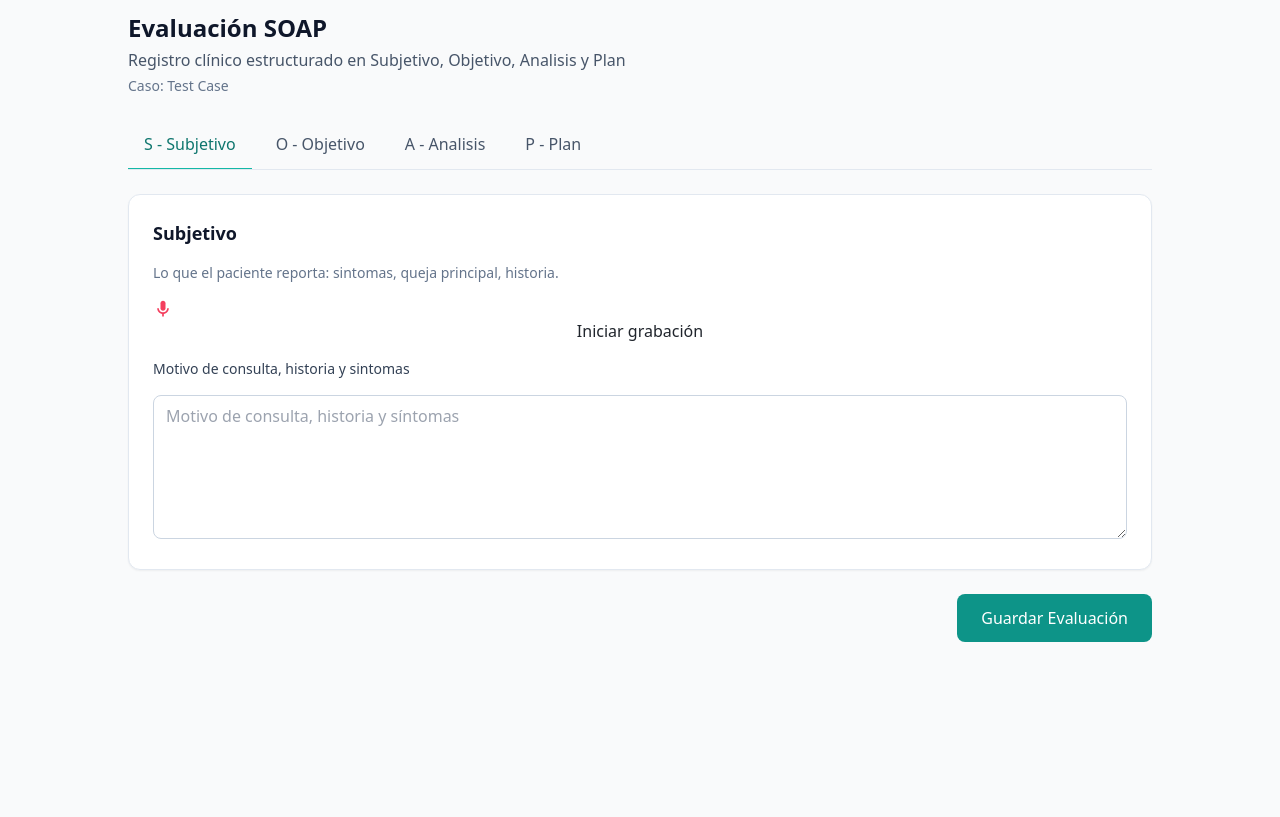
EvaluationForm SOAP › shows objective section and allows adding tests
Click the button "O - Objetivo". click: (320, 145)
box: 260,120 -> 381,170
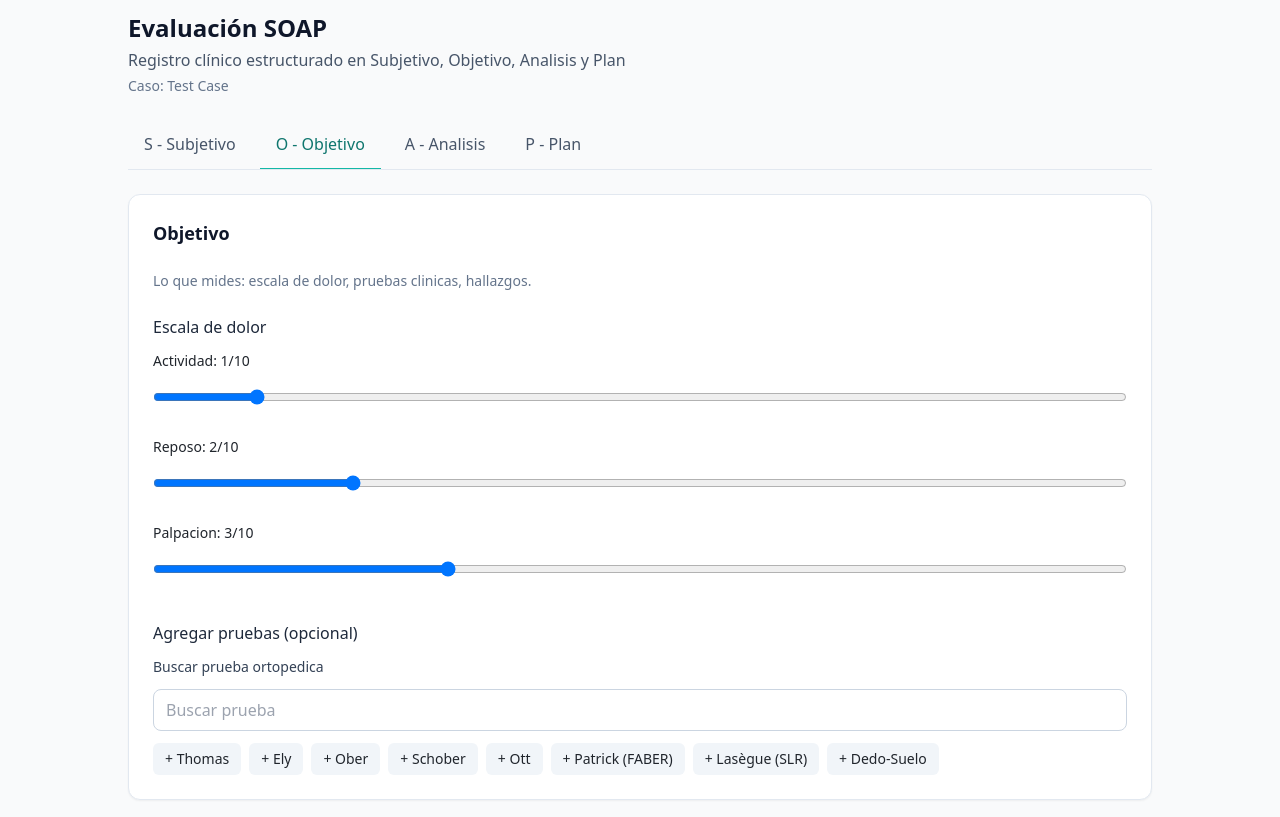
Now the heading "Escala de dolor" is shown, box 153,316 -> 266,338
Now the text "Actividad: 1/10" is shown, box 153,351 -> 250,370
Type "Thomas" into the field with placeholder "Buscar prueba". click: (640, 710)
box: 153,689 -> 1127,731
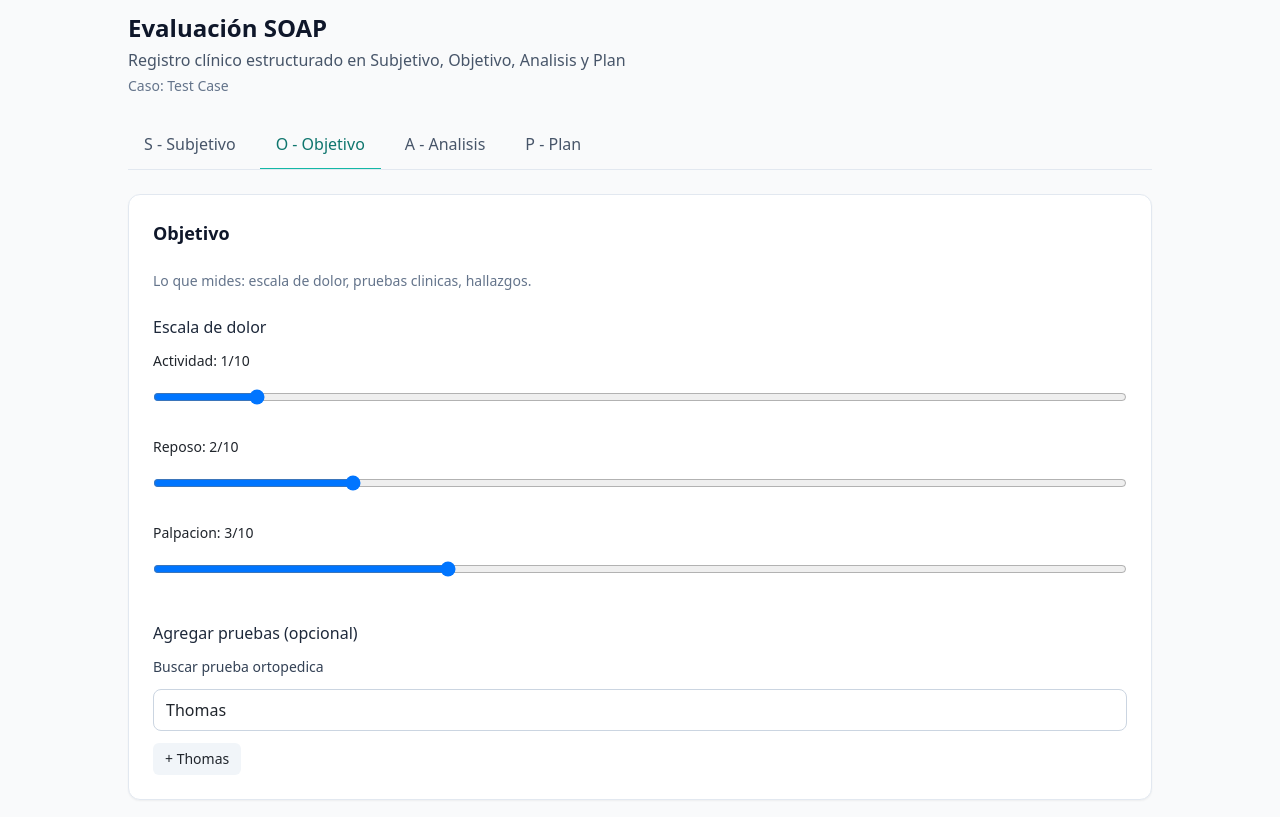
Click the button "+ Thomas". click: (197, 759)
box: 153,743 -> 241,775
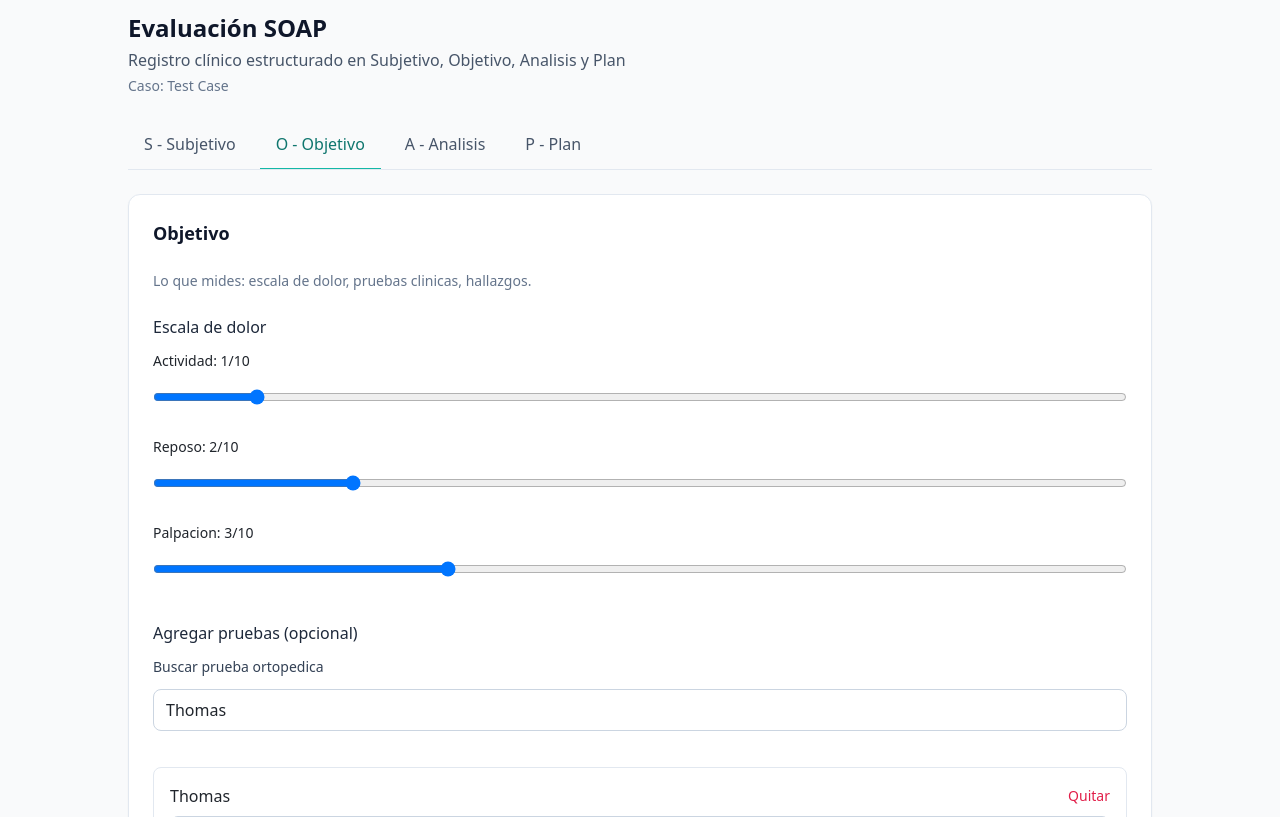
Now the heading "Thomas" is shown, box 170,784 -> 230,808
Now the button "Quitar" is shown, box 1068,786 -> 1110,806
